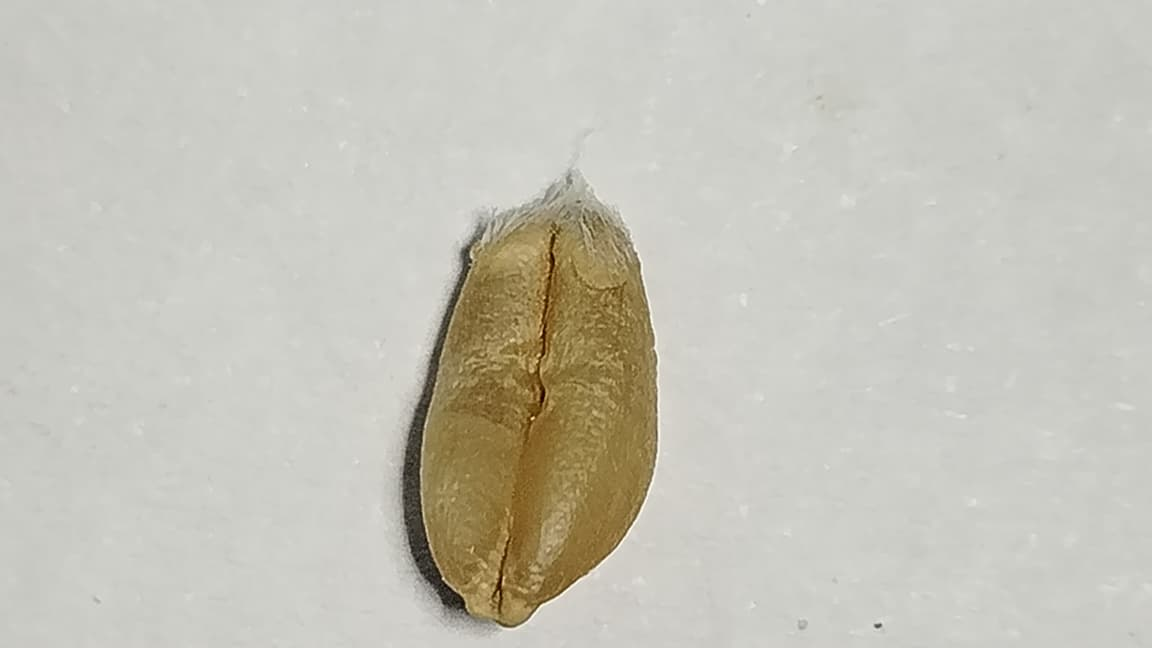healthy: (422, 199, 655, 626)
